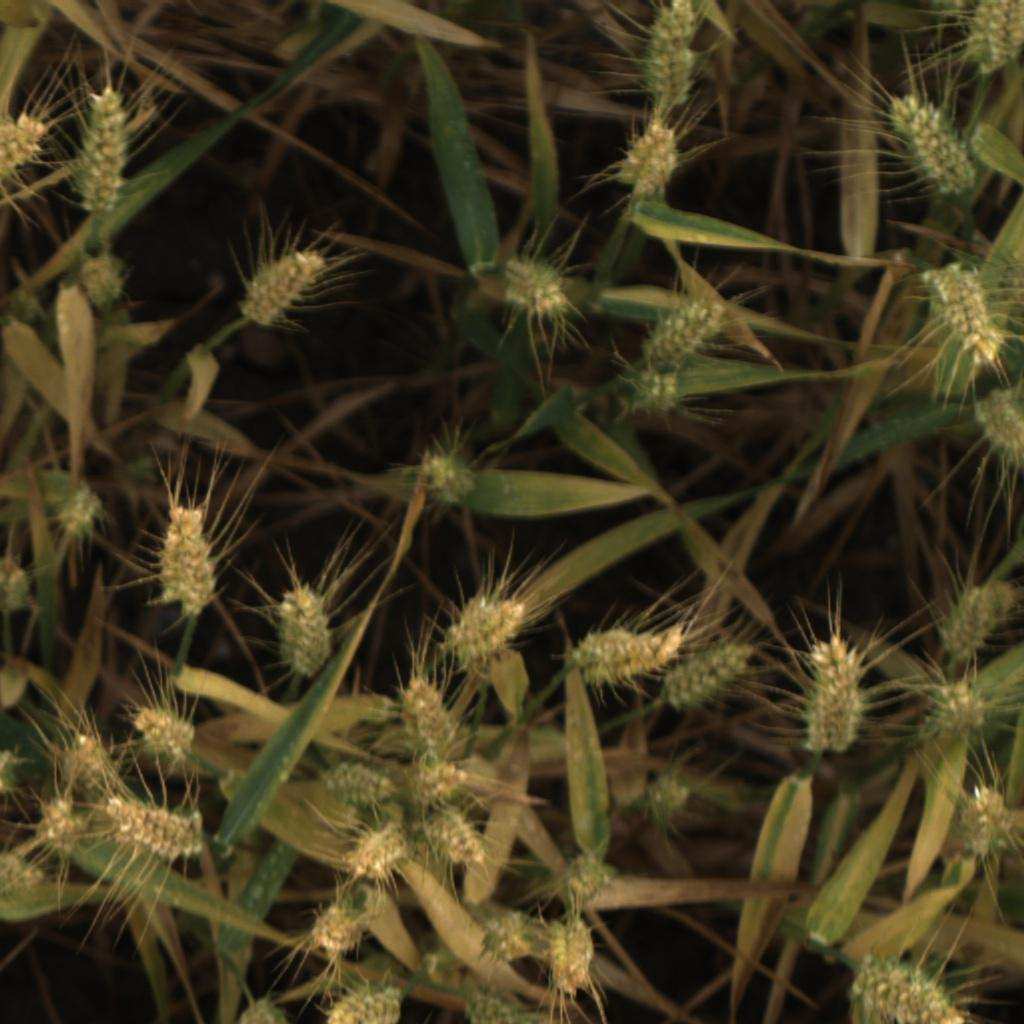0-0: (883, 92, 985, 195), (919, 259, 1009, 369), (153, 497, 227, 620), (68, 85, 136, 216), (98, 794, 214, 866), (802, 640, 872, 759), (235, 245, 330, 331), (855, 956, 975, 1024), (930, 577, 1017, 667), (638, 4, 711, 106), (644, 292, 731, 371), (568, 622, 684, 679), (441, 593, 530, 666), (669, 644, 758, 715), (949, 781, 1022, 867), (617, 117, 687, 204), (395, 674, 466, 758), (271, 585, 334, 675), (547, 920, 613, 1002), (129, 697, 199, 767), (422, 805, 494, 873), (340, 820, 411, 887), (962, 2, 1024, 77), (500, 253, 568, 321), (922, 679, 996, 740), (57, 725, 120, 793), (320, 759, 401, 811), (0, 107, 47, 196), (30, 793, 92, 859), (974, 391, 1024, 472), (323, 978, 403, 1024), (479, 907, 539, 968), (410, 752, 474, 809), (73, 248, 130, 311), (643, 768, 701, 829), (553, 853, 614, 910), (416, 451, 478, 507), (305, 901, 364, 959), (49, 485, 105, 541), (461, 991, 554, 1024), (634, 370, 683, 422), (994, 263, 1024, 342), (0, 847, 44, 899), (237, 1000, 302, 1024)
